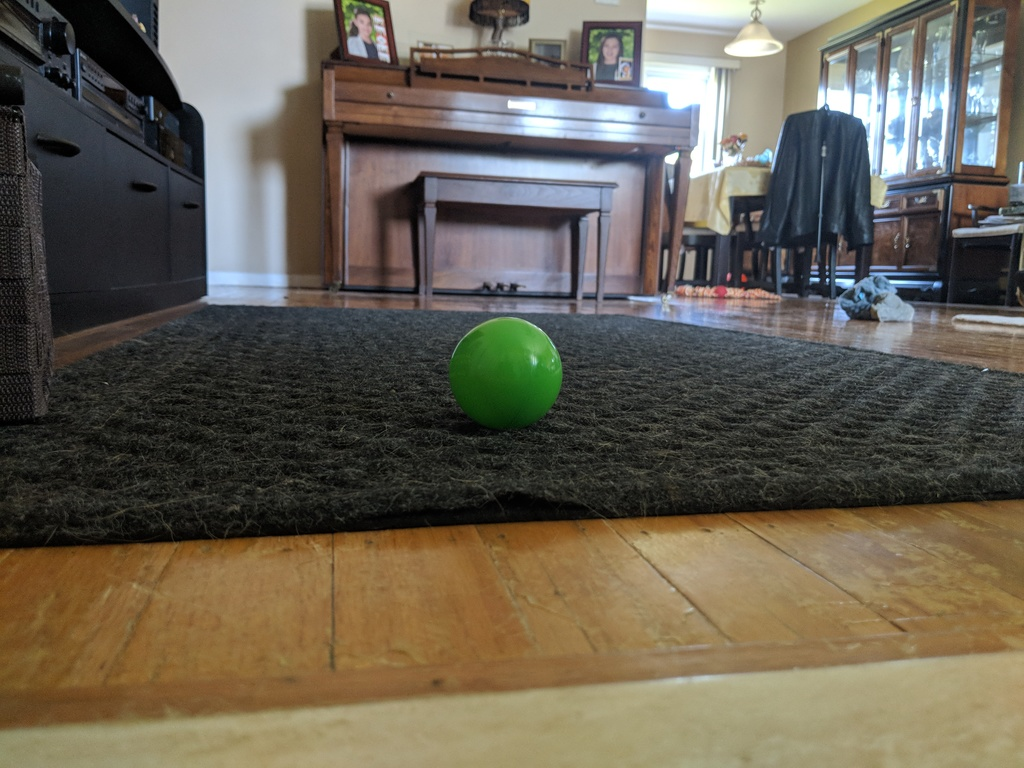ball: (442, 313, 564, 433)
